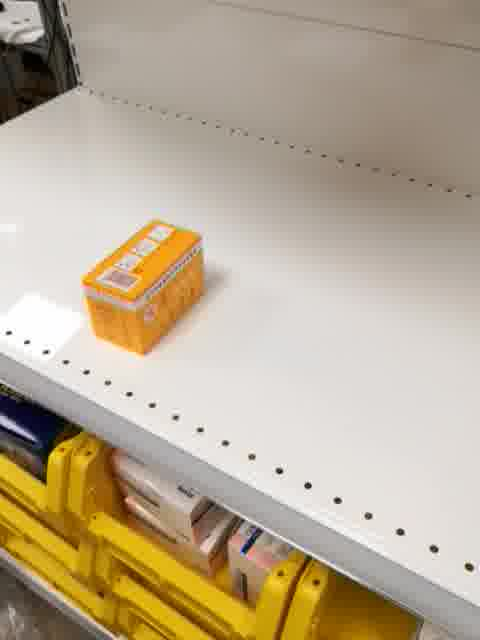jasminetea: (77, 217, 207, 358)
